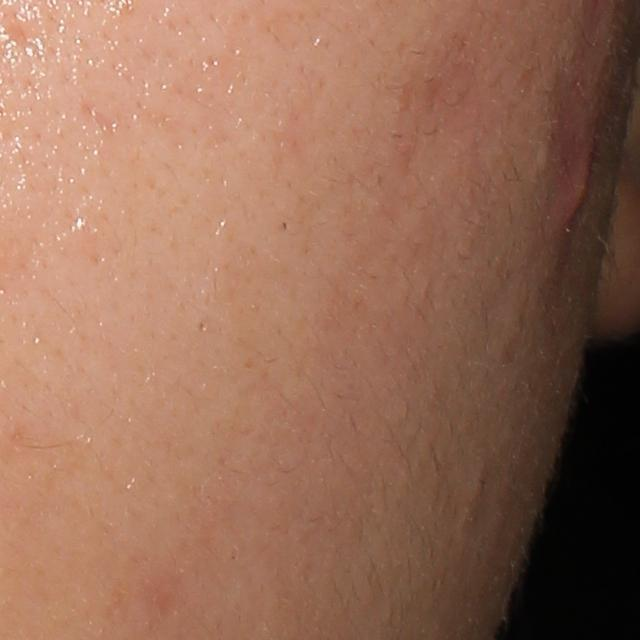papule: (547, 89, 599, 241)
